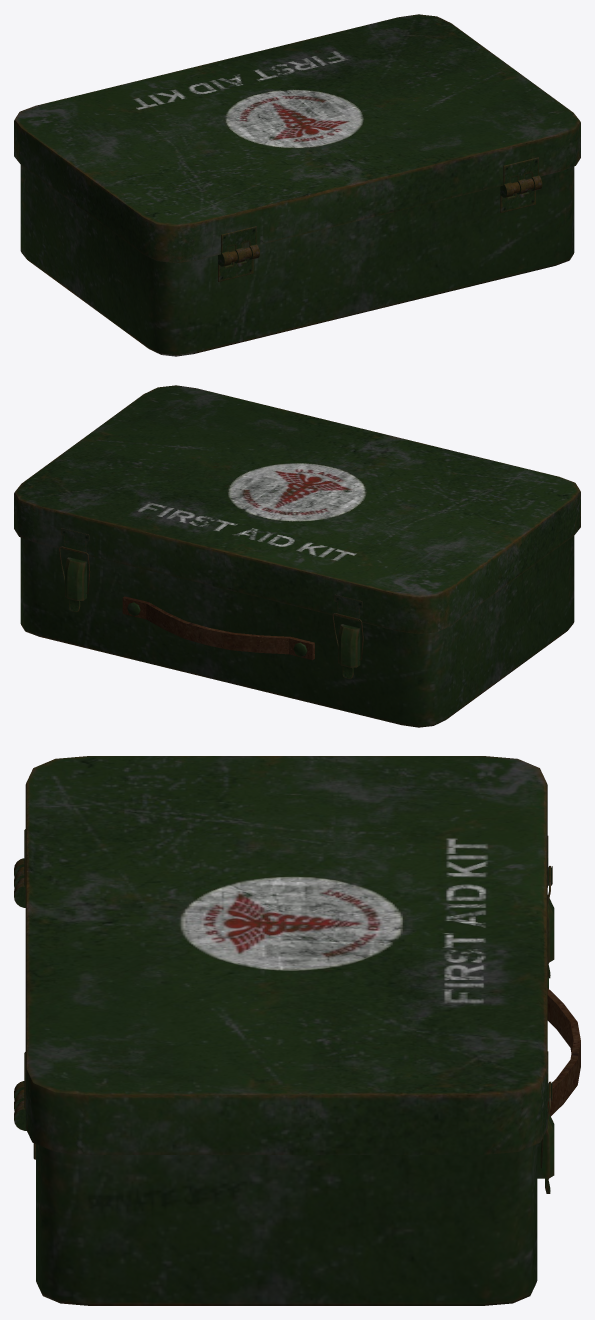
Rendered from Medikit.fbx.
3 views of the same model, one above another, from view 1: azimuth 30°, elevation 25°; view 2: azimuth 150°, elevation 25°; view 3: azimuth 270°, elevation 25° (orthographic). The views are drawn at different scales.
Visible parts, largest first — view 1: Box001, Cylinder002, Cylinder001; view 2: Box001, Box002, Box003, Box004, Tube002, Tube001; view 3: Box001, Box002, Box004.
Part boxes in pixels (x1,y1,x2,y2): Box001: [14, 14, 580, 356]; Cylinder002: [500, 157, 542, 212]; Cylinder001: [218, 226, 259, 281]; Box001: [14, 385, 580, 727]; Box002: [122, 596, 314, 660]; Box003: [338, 624, 360, 678]; Box004: [65, 557, 86, 611]; Tube002: [61, 528, 89, 553]; Tube001: [334, 594, 362, 620]; Box001: [25, 756, 547, 1305]; Box002: [547, 977, 580, 1116]; Box004: [537, 1110, 554, 1193].
Bounding box in the file's own units: 200 × 59.53 × 141.
